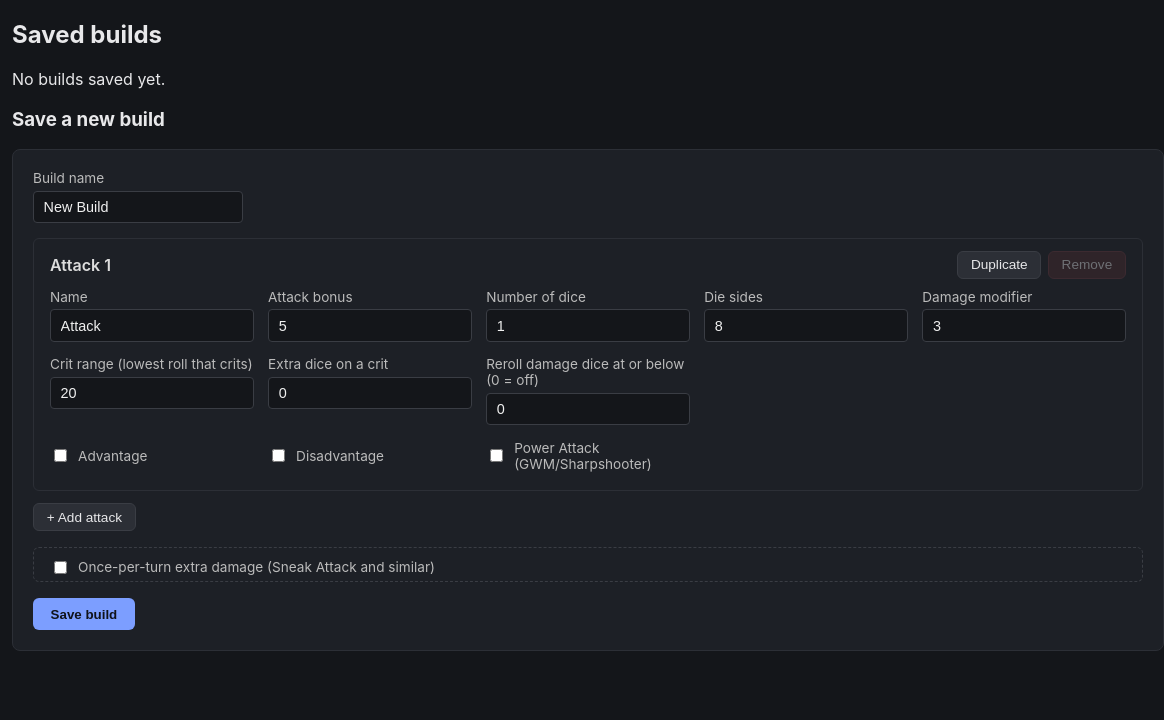
it: BuildsPanel › shows a save error and keeps the form
The image size is (1164, 720).
Expected: the text "No builds saved yet." is shown, [12,69,165,89]
Click the button "Save build" at {"x": 84, "y": 614}, box [33,598,135,630]
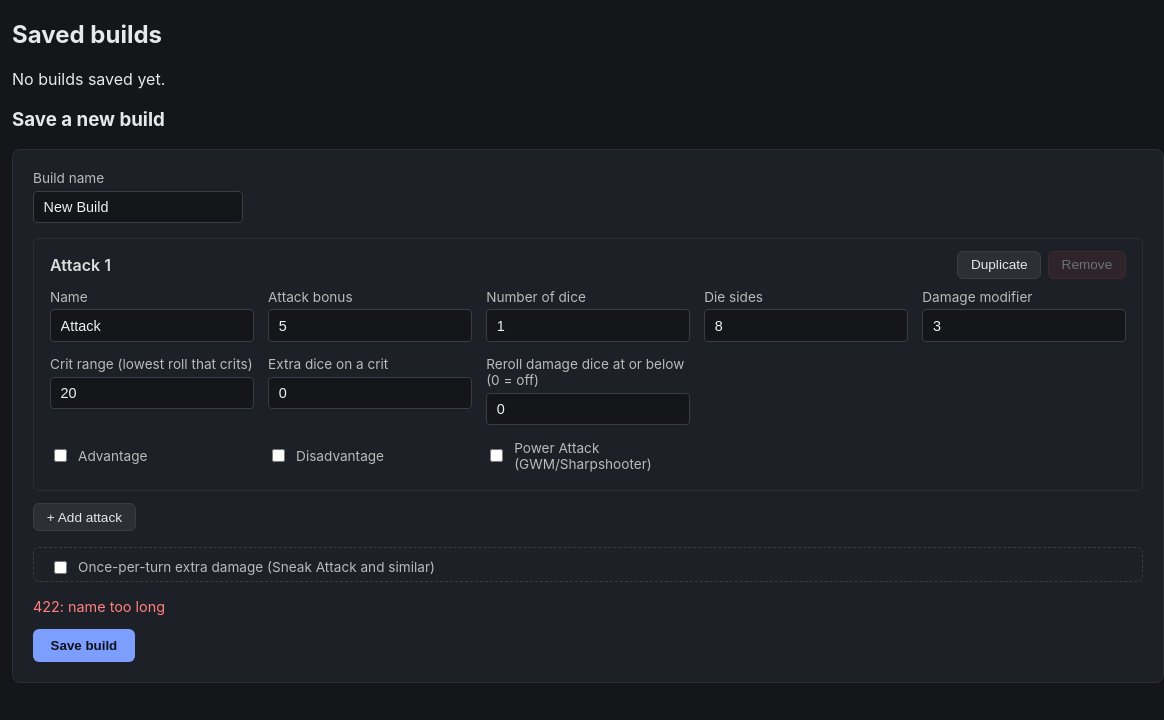
Expected: the button "Save build" is enabled, [33,629,135,662]
Expected: the text "422: name too long" is shown, [33,598,165,615]
